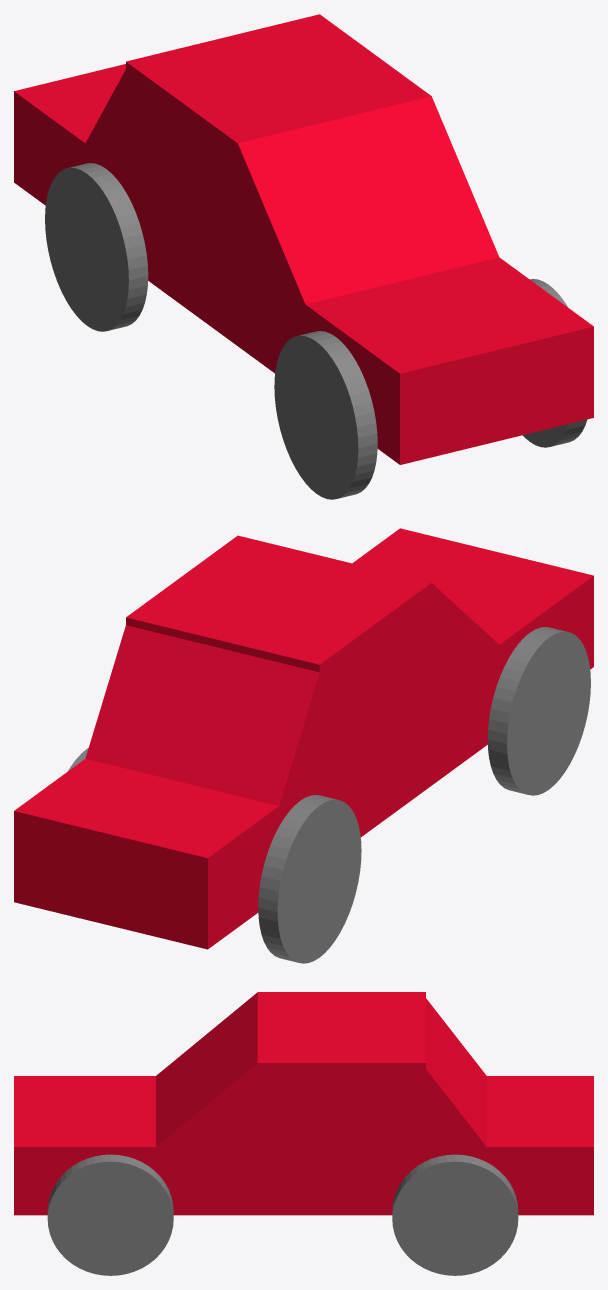
The model's file is car.fbx.
The picture shows the model from 3 angles, top to bottom: view 1: azimuth 30°, elevation 25°; view 2: azimuth 150°, elevation 25°; view 3: azimuth 270°, elevation 25°; orthographic projection. The views are drawn at different scales.
Visible parts, largest first — view 1: 3; view 2: 3; view 3: 3.
Boxes of the visible parts, x1,y1,x2,y2 form: 3: (14, 14, 593, 499); 3: (14, 528, 593, 963); 3: (14, 992, 593, 1275).
Bounding box in the file's own units: 2400 × 2700 × 6900.
